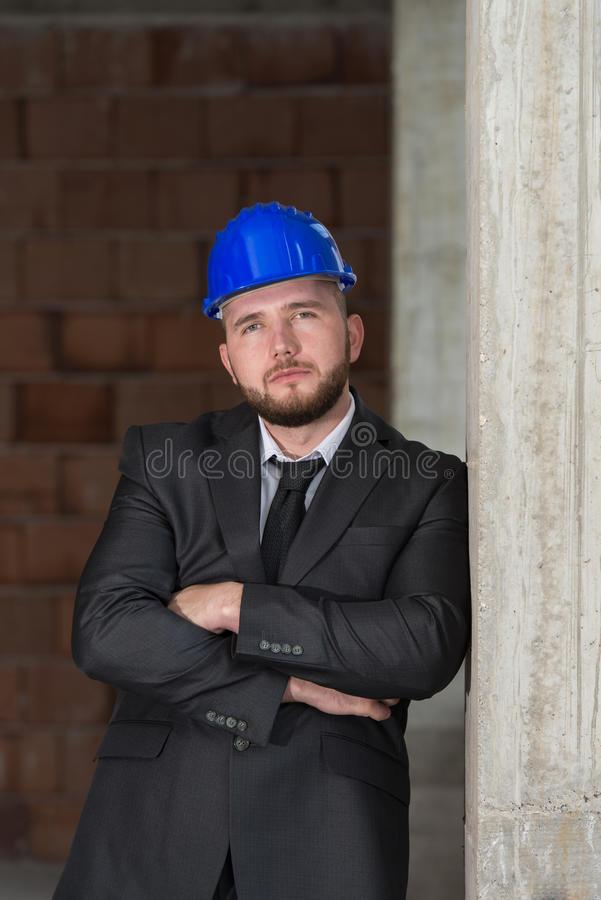helmet: (204, 202, 357, 309)
